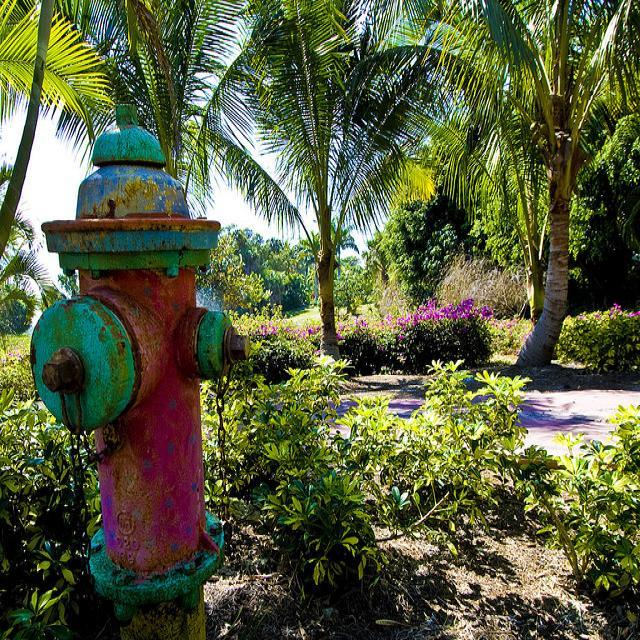fire_hydrant: (28, 101, 251, 625)
